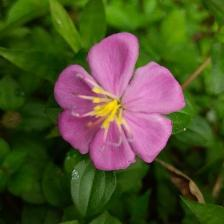malabar melastome: (52, 32, 189, 175)
